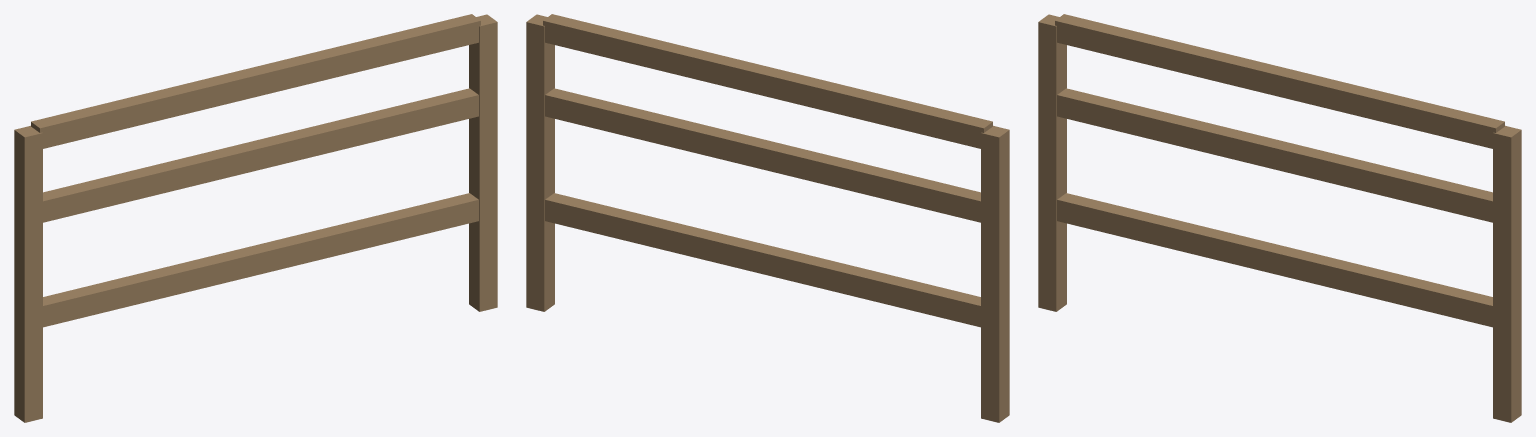
File: zoo-and-safari-park-builder-timber-rail-straight-73ae1509__21433.glb
The picture shows the model from 3 angles, left to right: view 1: azimuth 30°, elevation 25°; view 2: azimuth 150°, elevation 25°; view 3: azimuth 330°, elevation 25°; orthographic projection.
Visible parts, largest first — view 1: timber-rail-straight; view 2: timber-rail-straight; view 3: timber-rail-straight.
Part boxes in pixels (bbox=[...]): timber-rail-straight: bbox=[14, 14, 497, 422]; timber-rail-straight: bbox=[526, 14, 1009, 422]; timber-rail-straight: bbox=[1038, 14, 1521, 422].
Bounding box in the file's own units: 2.08 × 1.22 × 0.08.
